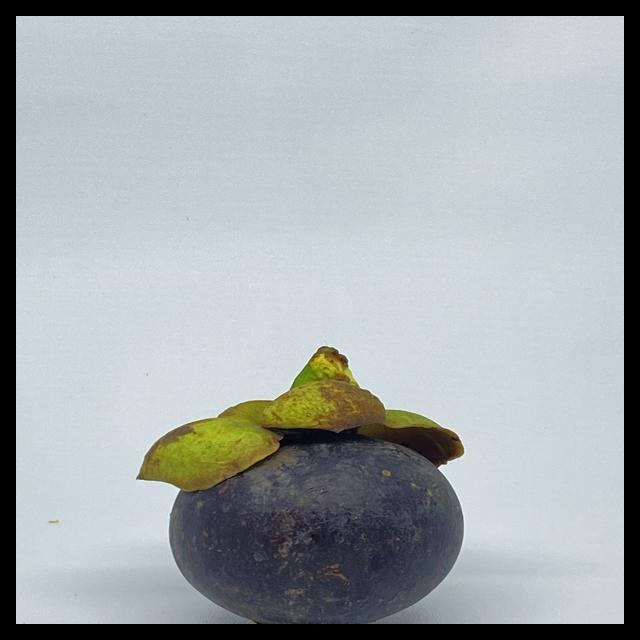mangosteen: (136, 330, 483, 624)
